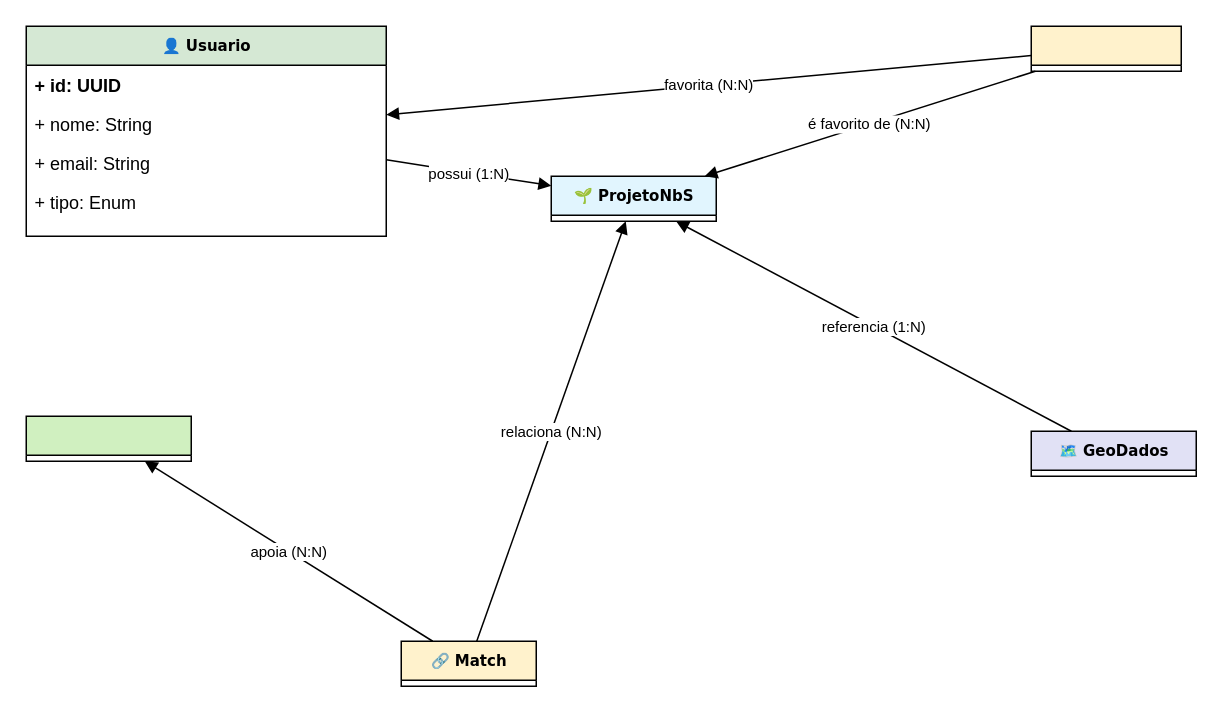
The diagram is 1223 pixels wide and 713 high, and some of its shapes have lost their labels. Each missing label, with the centre of its shape:
⭐ Favorito: [1105,48]
💰 FundoESG: [108,438]
